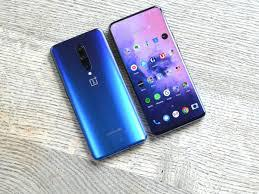Hand: (46, 34, 140, 154)
